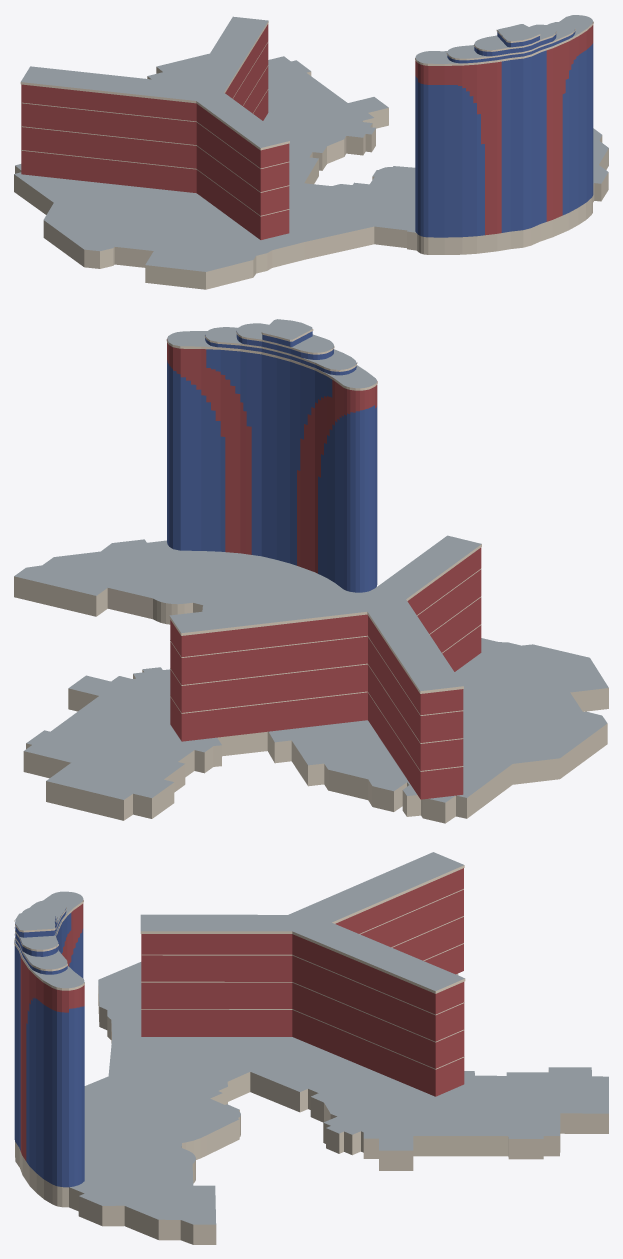
3 views of the same model, one above another, from view 1: azimuth 30°, elevation 25°; view 2: azimuth 150°, elevation 25°; view 3: azimuth 270°, elevation 25° (orthographic). The views are drawn at different scales.
Parts seen in each view (by area): view 1: rio-las-vegas; view 2: rio-las-vegas; view 3: rio-las-vegas.
Part boxes in pixels (x1,y1,x2,y2): rio-las-vegas: [14, 15, 608, 289]; rio-las-vegas: [14, 319, 608, 823]; rio-las-vegas: [14, 852, 608, 1244].
Bounding box in the file's own units: 358 × 140 × 318.
